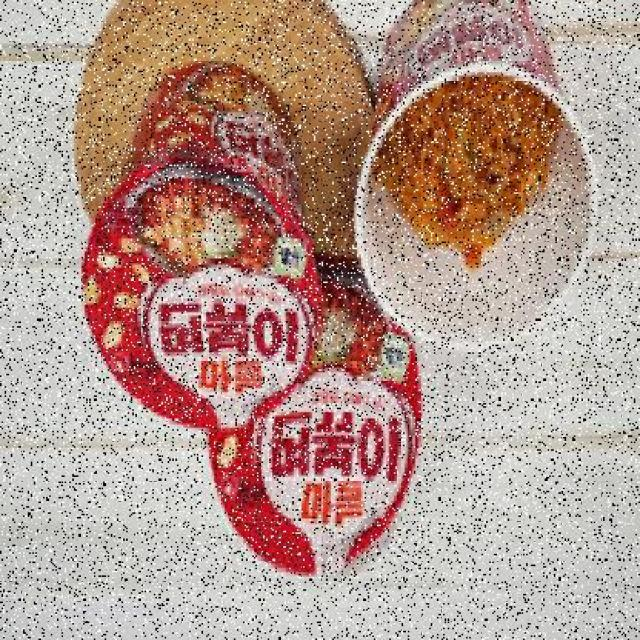Miscellaneous: (73, 72, 312, 436), (359, 0, 605, 352)
